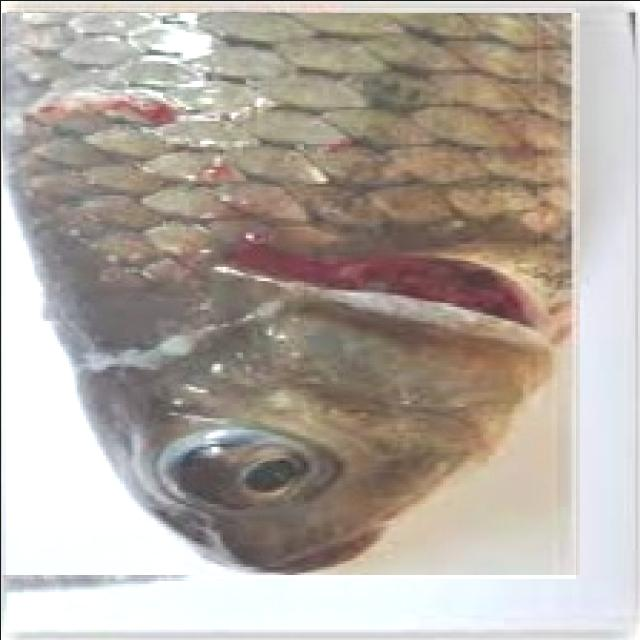Gill Disease: (5, 7, 575, 578)
